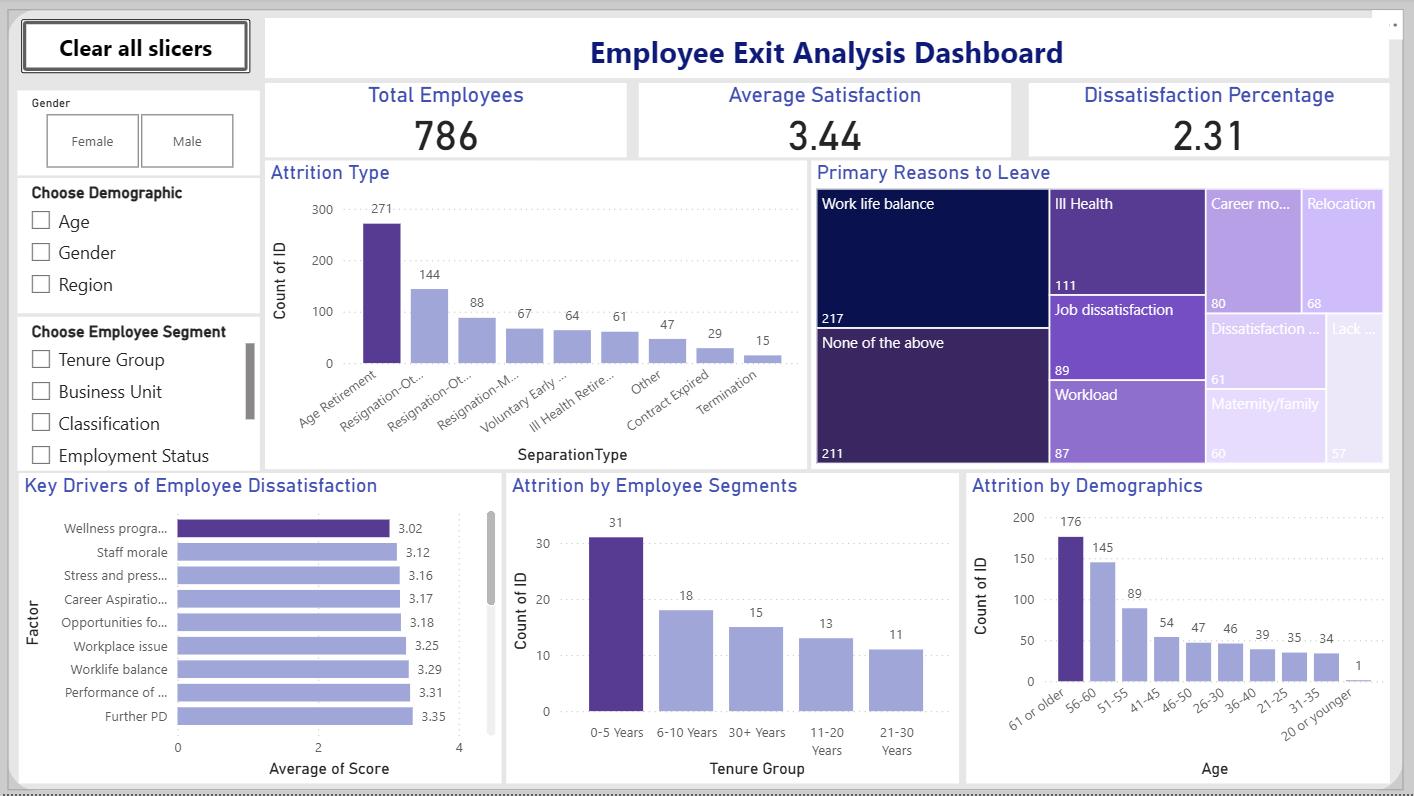

This screenshot's page, from the dashboard's own definition file:
{"tool":"powerbi","page":{"name":"Employee Exit Analysis Dashboard","canvas":[1280,720],"ordinal":0},"visuals":[{"type":"shape","box":[7.2,10.1,1262.4,707],"z":0},{"type":"card","title":"Total Employees","fields":{"Values":["Count(Employ-Exit-survey-Data.ID)"]},"box":[239.7,76.7,327.2,67.1],"z":1000},{"type":"textbox","box":[239.7,18.1,1016.5,54.3],"z":2000},{"type":"card","title":"Dissatisfaction Percentage","fields":{"Values":["Employ-Exit-survey-Data.Dissatisfaction Percentage"]},"box":[930.5,76.9,326.8,66.7],"z":3000},{"type":"clusteredColumnChart","title":"Attrition Type","fields":{"Category":["Employ-Exit-survey-Data.SeparationType"],"Y":["Count(Employ-Exit-survey-Data.ID)"]},"box":[239.7,147.4,490.2,279.3],"z":4000},{"type":"treemap","title":"Primary Reasons to Leave","fields":{"Group":["Employ-Exit-survey-Data.Reason"],"Values":["Count(Employ-Exit-survey-Data.ID)"]},"box":[733.5,147.4,522.5,279.3],"z":5000},{"type":"clusteredBarChart","title":"Key Drivers of Employee Dissatisfaction","fields":{"Category":["Employ-Exit-survey-Data.Factor"],"Y":["Avg(Employ-Exit-survey-Data.Score)"]},"box":[17,429.7,436.4,280.4],"z":6000},{"type":"card","title":"Average Satisfaction","fields":{"Values":["Employ-Exit-survey-Data.Avg_satisfaction"]},"box":[577.7,76.7,336.8,67.1],"z":7000},{"type":"clusteredColumnChart","title":"Attrition by Demographics","fields":{"Category":["Employ-Exit-survey-Data.Age","Employ-Exit-survey-Data.Gender","Employ-Exit-survey-Data.Region"],"Y":["Count(Employ-Exit-survey-Data.ID)"]},"box":[874,429.7,383.3,280.4],"z":8000},{"type":"actionButton","box":[19.2,19.2,207.3,49.1],"z":9000},{"type":"clusteredColumnChart","title":"Attrition by Employee Segments","fields":{"Category":["Employ-Exit-survey-Data.Tenure Group","Employ-Exit-survey-Data.Business Unit","Employ-Exit-survey-Data.Classification","Employ-Exit-survey-Data.Employment Status","Employ-Exit-survey-Data.Factor","Employ-Exit-survey-Data.Position"],"Y":["Count(Employ-Exit-survey-Data.ID)"]},"box":[457.9,429.7,409.3,280.4],"z":10000},{"type":"slicer","fields":{"Values":["Choose Employee Segments.Choose x-axis"]},"box":[15.8,288.3,219.3,139.1],"z":11000},{"type":"slicer","fields":{"Values":["Choose Demographic.Choose Demographic"]},"box":[15.8,162.8,219.3,122.1],"z":12000},{"type":"slicer","fields":{"Values":["Employ-Exit-survey-Data.Gender"]},"box":[15.6,83.9,219.3,76.7],"z":13000}]}

Visuals, with their boxes in screenshot pixels (x1, y1, x2, y2), scaled from the page's 1280x720 canvas onto the 1414x796 screenshot:
shape: BBox(8, 11, 1403, 793)
"Total Employees" card: BBox(265, 85, 626, 159)
textbox: BBox(265, 20, 1388, 80)
"Dissatisfaction Percentage" card: BBox(1028, 85, 1389, 159)
"Attrition Type" clusteredColumnChart: BBox(265, 163, 806, 472)
"Primary Reasons to Leave" treemap: BBox(810, 163, 1387, 472)
"Key Drivers of Employee Dissatisfaction" clusteredBarChart: BBox(19, 475, 501, 785)
"Average Satisfaction" card: BBox(638, 85, 1010, 159)
"Attrition by Demographics" clusteredColumnChart: BBox(965, 475, 1389, 785)
actionButton: BBox(21, 21, 250, 76)
"Attrition by Employee Segments" clusteredColumnChart: BBox(506, 475, 958, 785)
slicer - Choose Employee Segments.Choose x-axis: BBox(17, 319, 260, 473)
slicer - Choose Demographic.Choose Demographic: BBox(17, 180, 260, 315)
slicer - Employ-Exit-survey-Data.Gender: BBox(17, 93, 259, 178)
